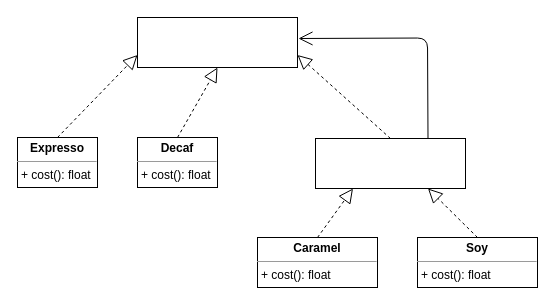
Image size: 555x305. Some labels were removed from this diagram. Each missing label, with the centre of its shape:
AddonDecorator # objBeverage: Beverage: the point at 390,163
Beverage + cost(): float: the point at 217,42
